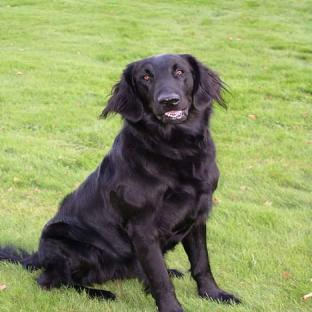Animal: (0, 54, 240, 312)
